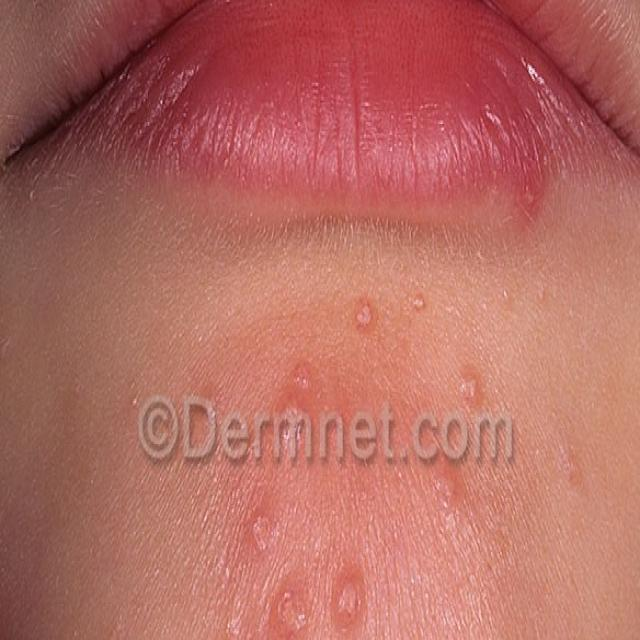Viral Infections: (234, 480, 393, 640), (327, 270, 448, 351), (425, 456, 495, 553), (273, 348, 332, 407), (448, 367, 501, 412)
